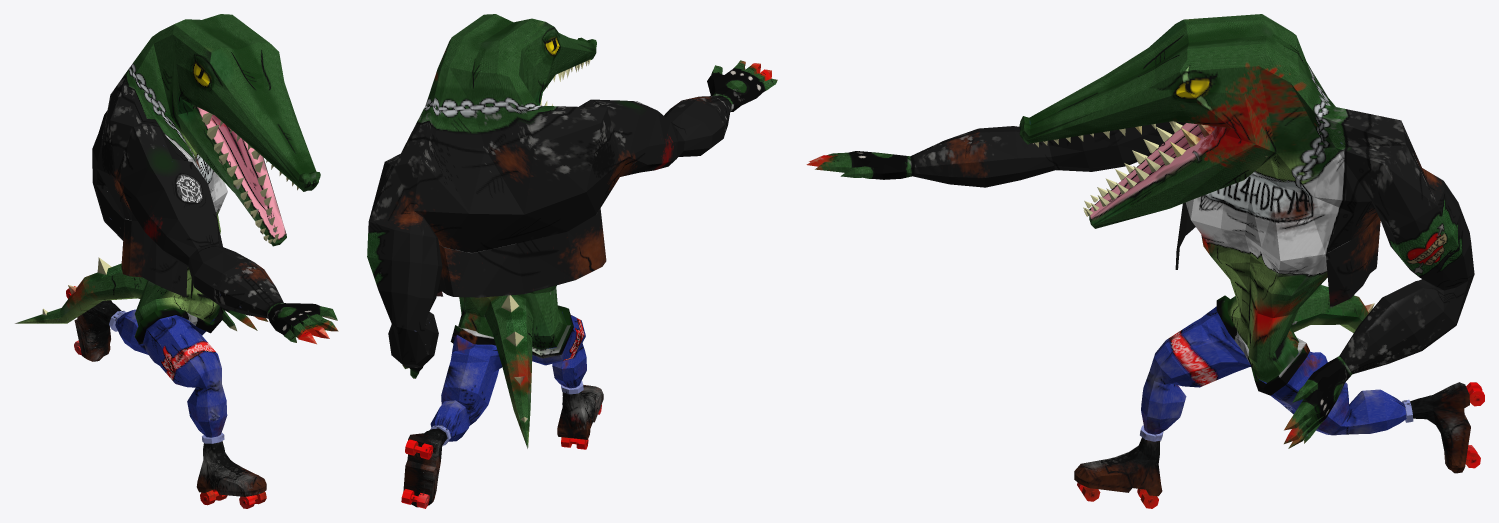
The model's file is cocodrilaBonesSelect_000010.obj.
3 views of the same model, side by side, from view 1: azimuth 30°, elevation 25°; view 2: azimuth 150°, elevation 25°; view 3: azimuth 270°, elevation 25° (orthographic). The views are drawn at different scales.
Visible parts, largest first — view 1: Crocodile.002_Cylinder.002; view 2: Crocodile.002_Cylinder.002; view 3: Crocodile.002_Cylinder.002.
Boxes of the visible parts, box(x1,y1,x2,y2) form: Crocodile.002_Cylinder.002: box(15, 14, 338, 508); Crocodile.002_Cylinder.002: box(367, 14, 777, 508); Crocodile.002_Cylinder.002: box(806, 14, 1484, 508).
Size of the model in its own units: 2.85 by 6.06 by 7.51.
